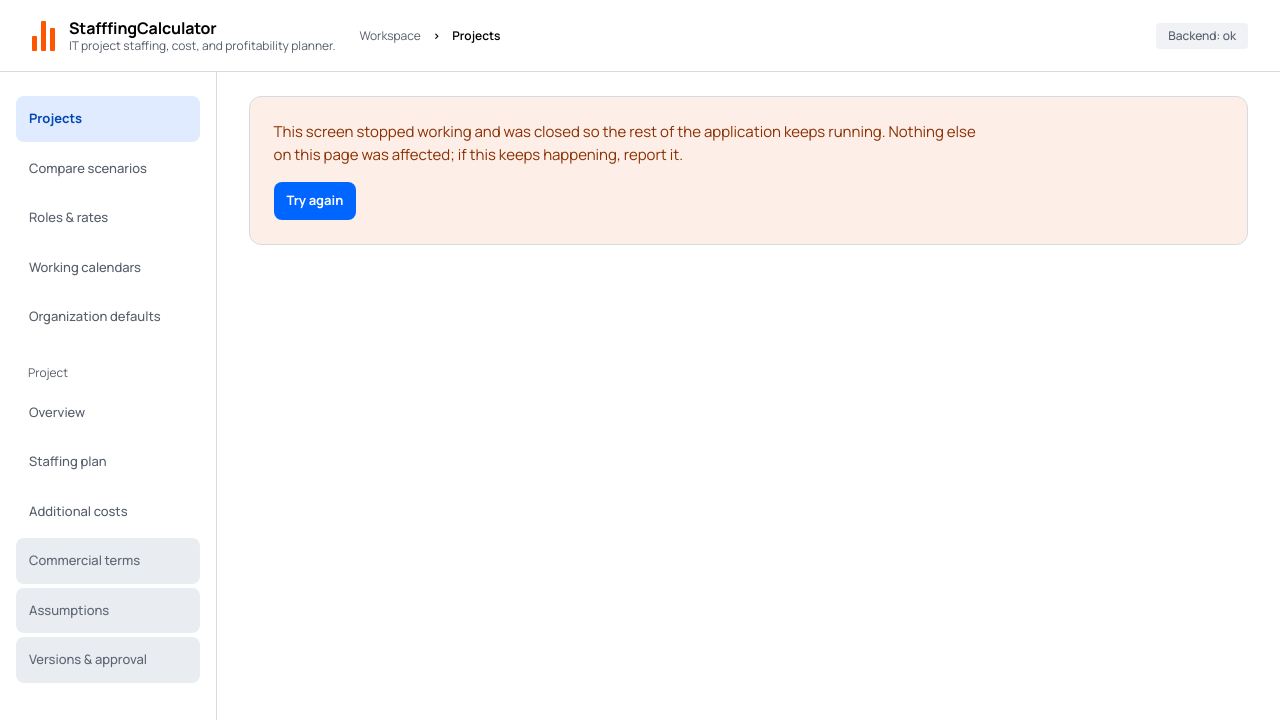
Test: the shell's render-error boundary › re-mounts the crashed screen from the same place when the fallback's try-again is pressed
This screenshot has width=1280, height=720.
Click the button "Try again". click: (315, 201)
box: x1=274 y1=182 x2=356 y2=220
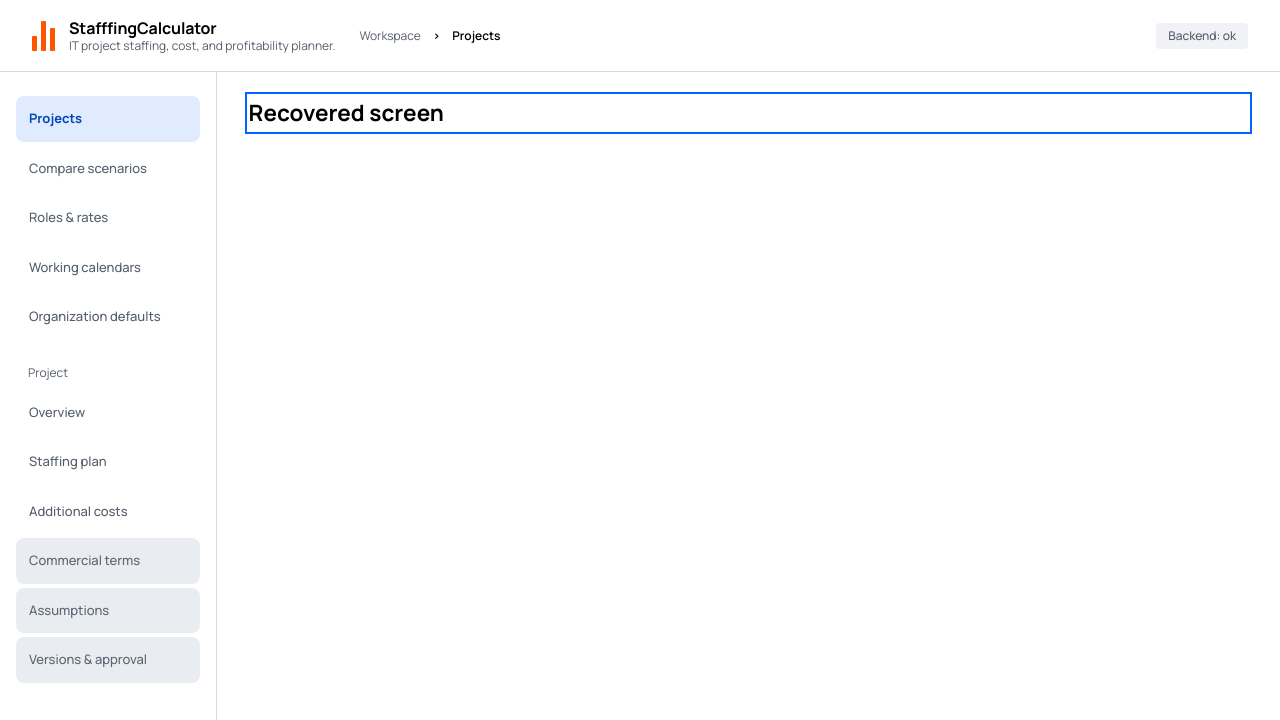
Expected: the message "This screen stopped working and was closed so the rest of the application keeps" is gone
Expected: the heading "Recovered screen" is shown, x1=248 y1=97 x2=444 y2=128
